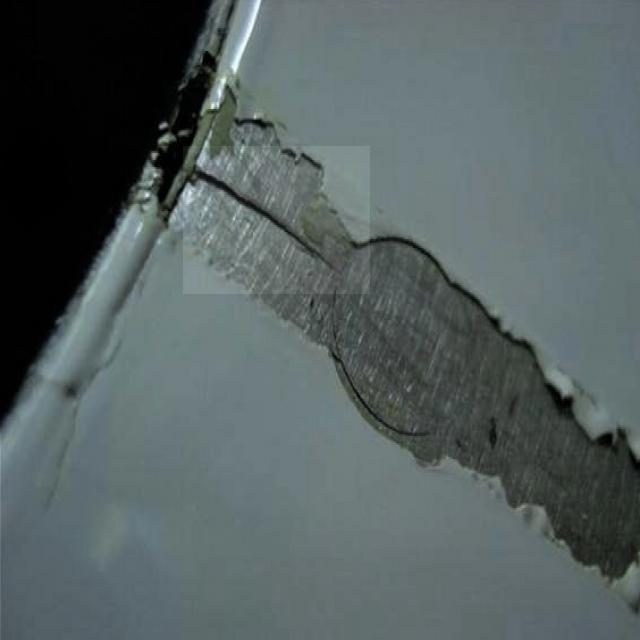crack: (184, 147, 371, 295)
